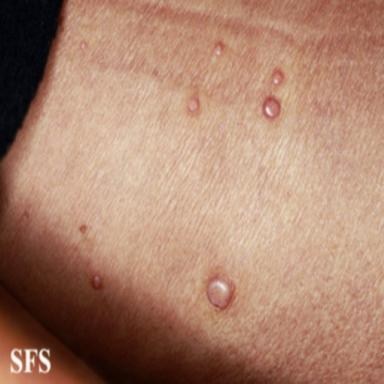Molluscum-Contagiosum: (206, 275, 235, 309), (263, 98, 280, 118), (271, 70, 283, 85), (188, 98, 199, 114), (91, 274, 102, 289), (214, 43, 223, 56), (79, 39, 88, 51)
